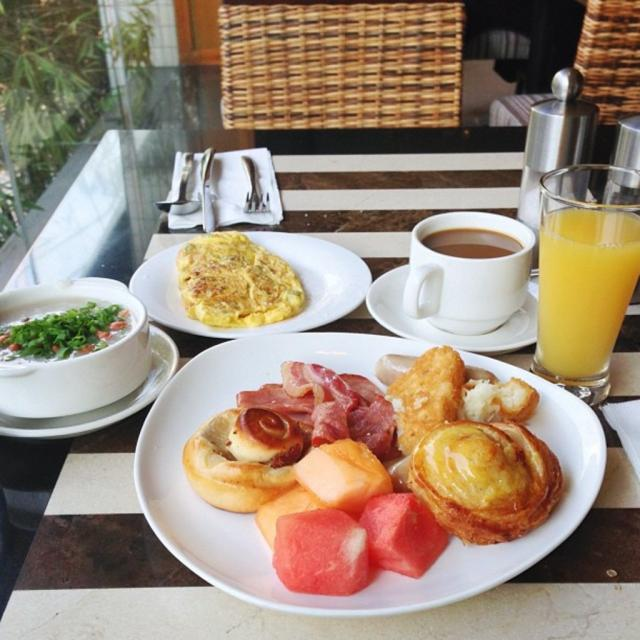Coffee: (424, 222, 524, 262)
Tea: (416, 228, 522, 260)
